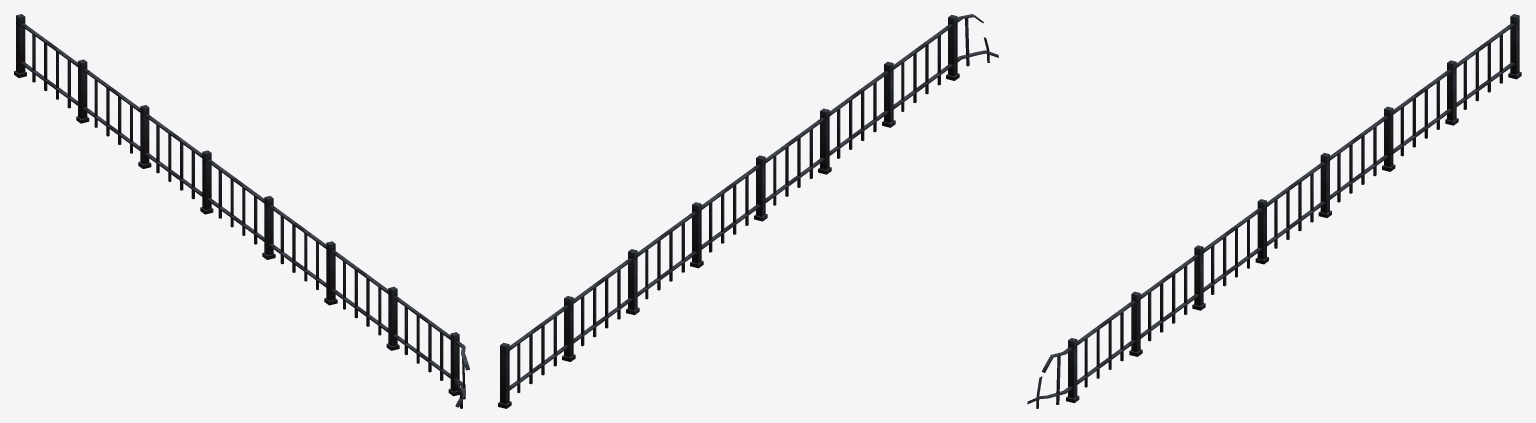
The model's file is tides_fences_b.glb.
3 views of the same model, side by side, from view 1: azimuth 30°, elevation 25°; view 2: azimuth 150°, elevation 25°; view 3: azimuth 330°, elevation 25° (orthographic). The views are drawn at different scales.
Visible parts, largest first — view 1: 0_tides_fences; view 2: 0_tides_fences; view 3: 0_tides_fences.
Boxes of the visible parts, x1=… form: 0_tides_fences: x1=14, y1=14, x2=469, y2=408; 0_tides_fences: x1=498, y1=14, x2=998, y2=408; 0_tides_fences: x1=1027, y1=14, x2=1521, y2=408.
Size of the model in its own units: 0.4952 by 1.11 by 15.14.
Materials: 1 (1 with a texture image).
